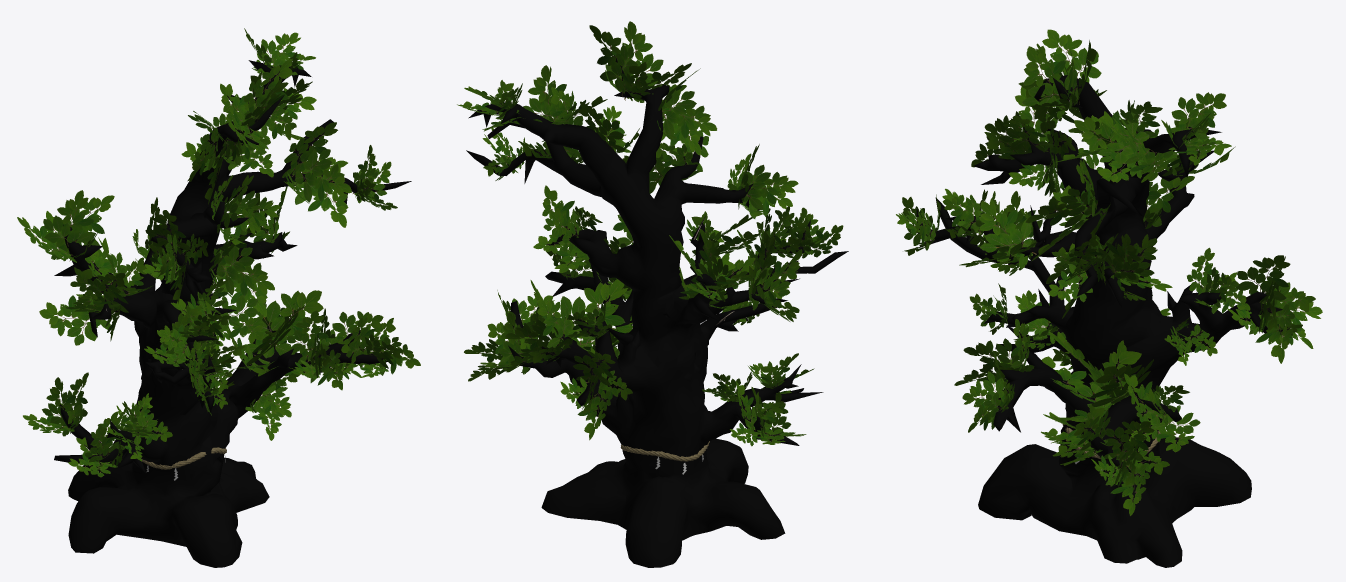
Rendered from Goshinboku.fbx.
3 renders of one model, left to right at view 1: azimuth 30°, elevation 25°; view 2: azimuth 150°, elevation 25°; view 3: azimuth 270°, elevation 25°, orthographic. The views are drawn at different scales.
Parts seen in each view (by area): view 1: TreeObj, Tree; view 2: Tree, TreeObj; view 3: TreeObj, Tree.
Boxes of the visible parts, left/top/right/bottom form: TreeObj: left=17, top=28, right=420, bottom=480; Tree: left=54, top=60, right=411, bottom=567; Tree: left=466, top=55, right=848, bottom=567; TreeObj: left=457, top=21, right=843, bottom=474; TreeObj: left=896, top=29, right=1322, bottom=515; Tree: left=916, top=75, right=1290, bottom=567.
Bounding box in the file's own units: 318 × 389 × 300.
